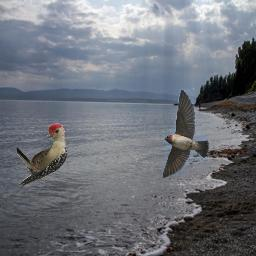Swallow: (162, 89, 209, 178)
Woodpecker: (17, 123, 67, 189)
